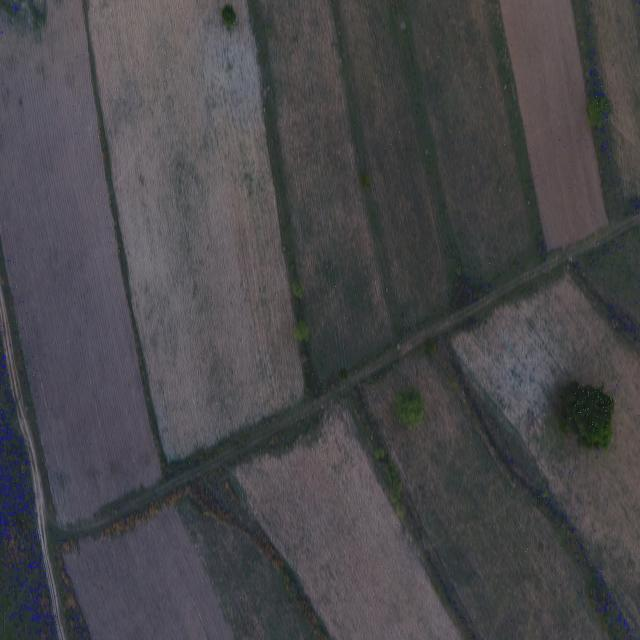boundaries: (78, 11, 295, 459)
